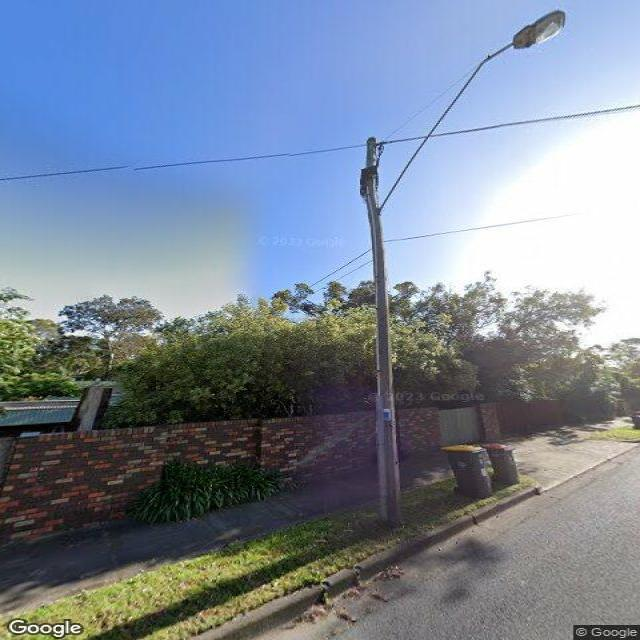streetlight: (375, 3, 577, 225)
timber-pole: (363, 136, 406, 530)
